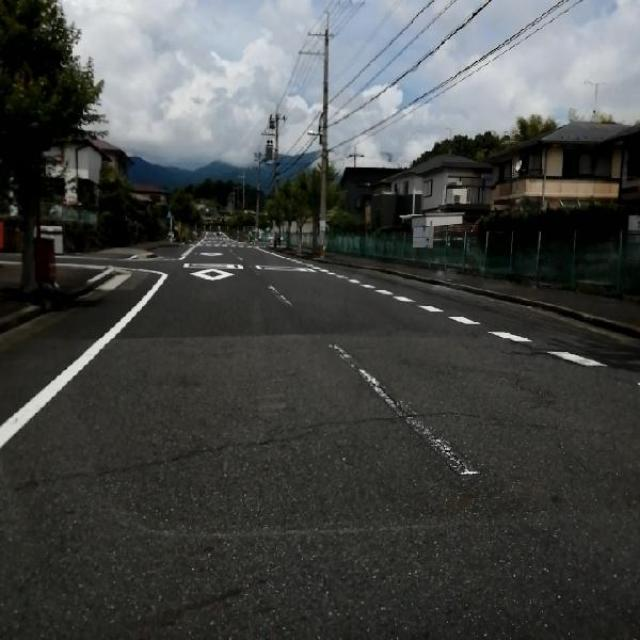Crack: (0, 358, 610, 514)
